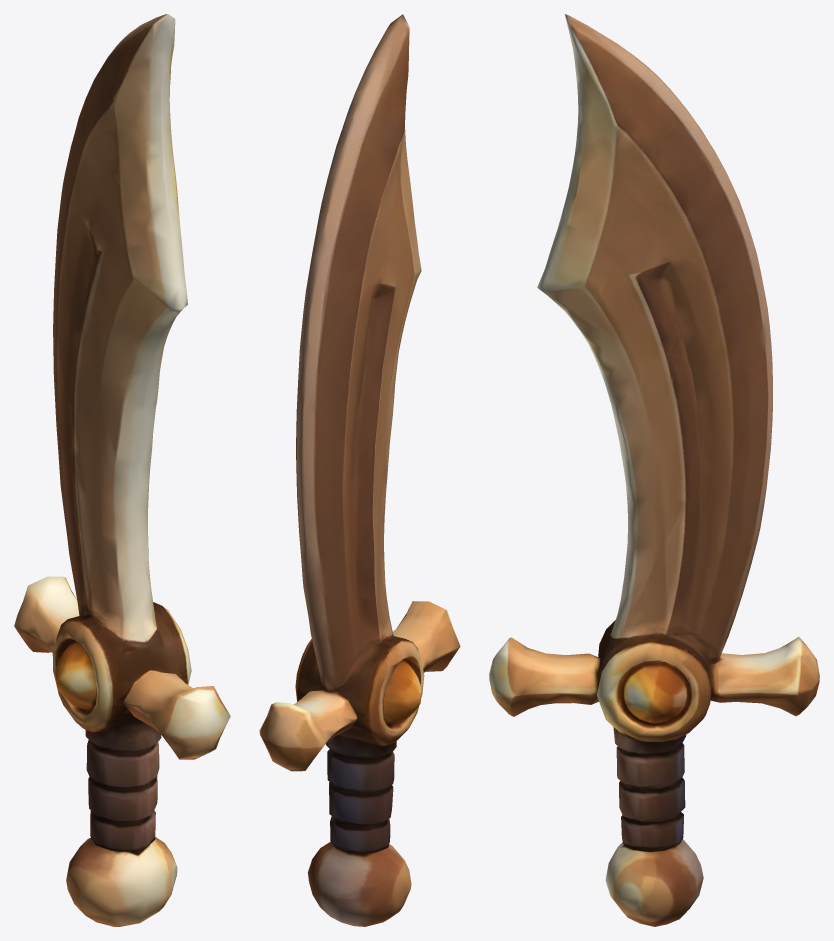
File: gear_weapon_n_3.glb
3 renders of one model, left to right at view 1: azimuth 30°, elevation 25°; view 2: azimuth 150°, elevation 25°; view 3: azimuth 270°, elevation 25°, orthographic. The views are drawn at different scales.
Parts seen in each view (by area): view 1: Weapon; view 2: Weapon; view 3: Weapon.
Boxes of the visible parts, <box> form: Weapon: <box>14,14,230,926</box>; Weapon: <box>259,14,460,926</box>; Weapon: <box>489,14,819,926</box>.
Size of the model in its own units: 0.1405 by 0.9816 by 0.3241.
1 material, 1 textured.
